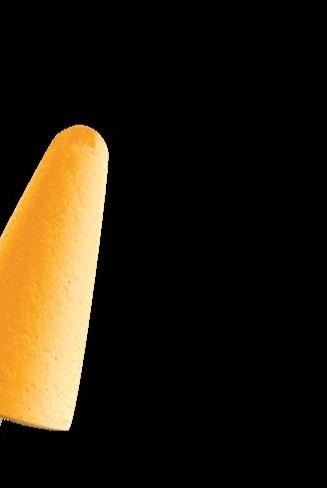Kulfi: (0, 125, 108, 433)
